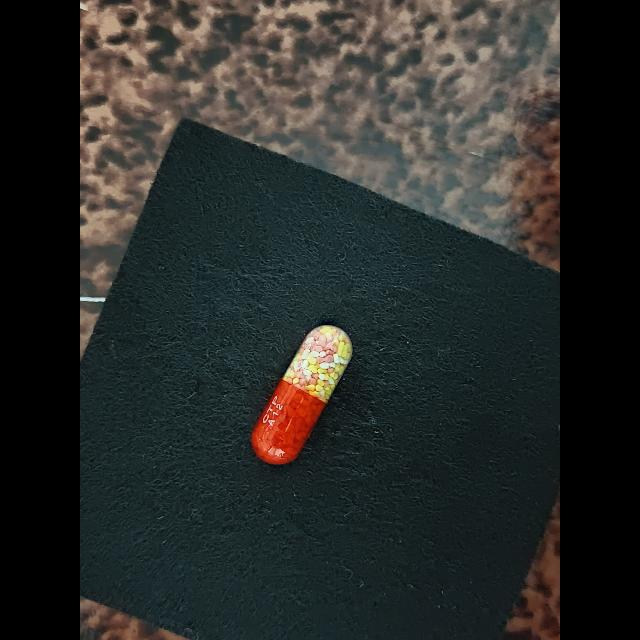Intact Capsule: (251, 325, 353, 465)
